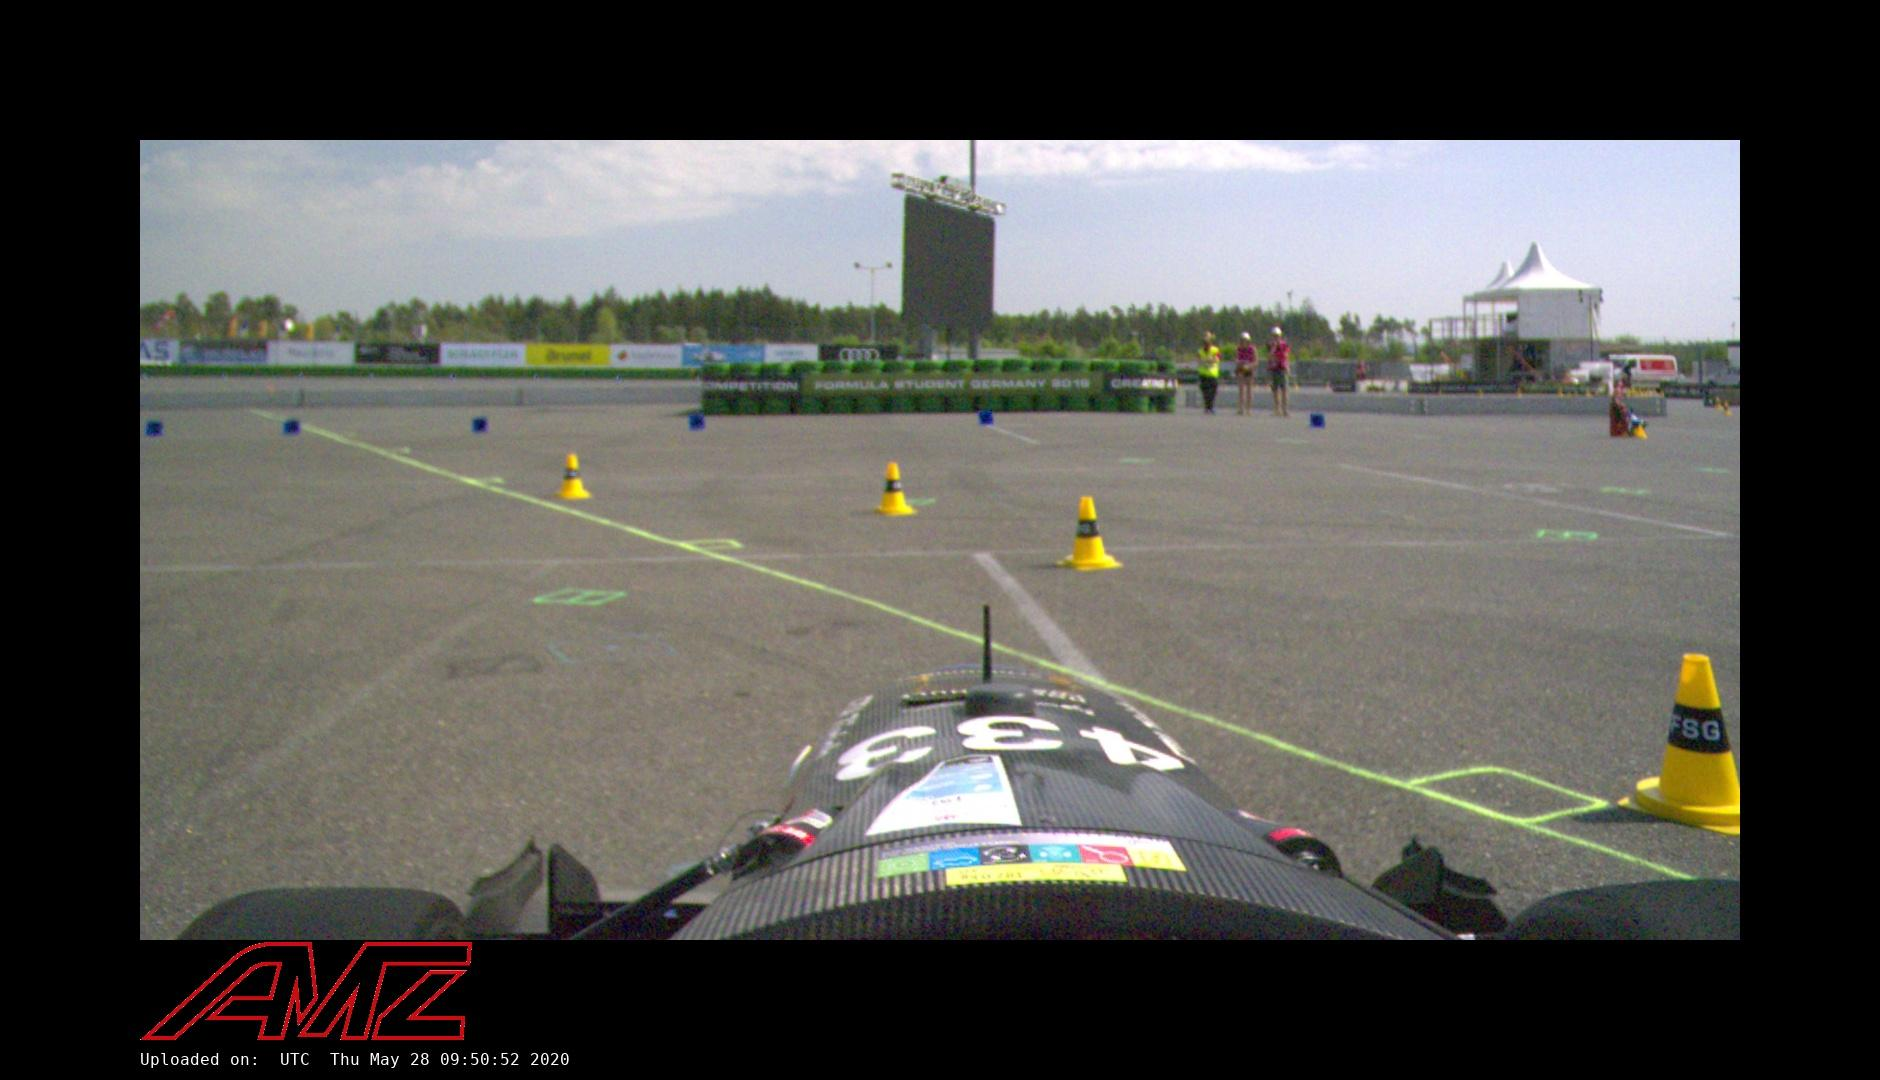blue_cone: (145, 420, 164, 437), (283, 419, 300, 435), (690, 413, 705, 431), (473, 417, 488, 434), (977, 410, 994, 425), (1311, 413, 1325, 428)
yellow_cone: (1622, 651, 1739, 833), (1059, 495, 1119, 571), (875, 462, 914, 514), (558, 453, 590, 500), (1722, 400, 1732, 416), (1713, 397, 1722, 410)
